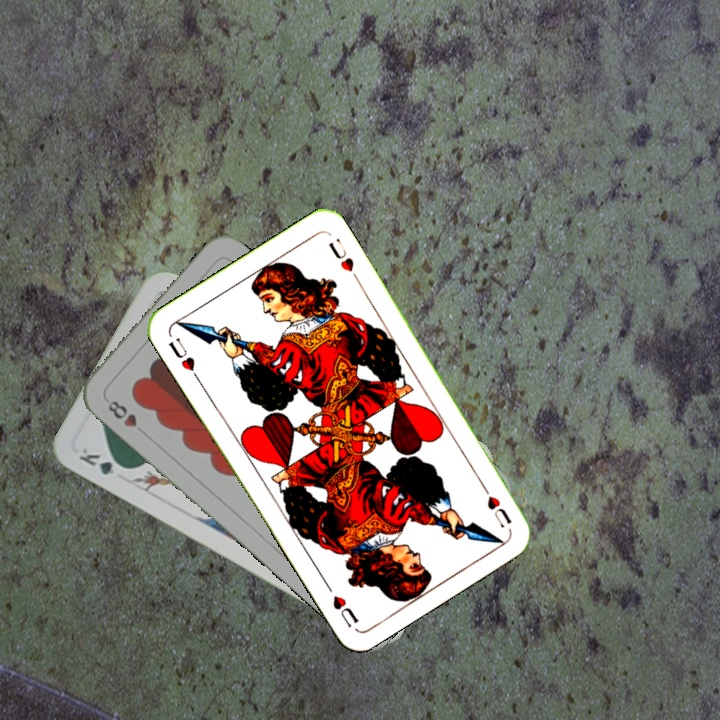GK: (74, 443, 131, 478)
H8: (103, 396, 150, 439)
HU: (476, 478, 514, 531), (164, 333, 203, 384)
